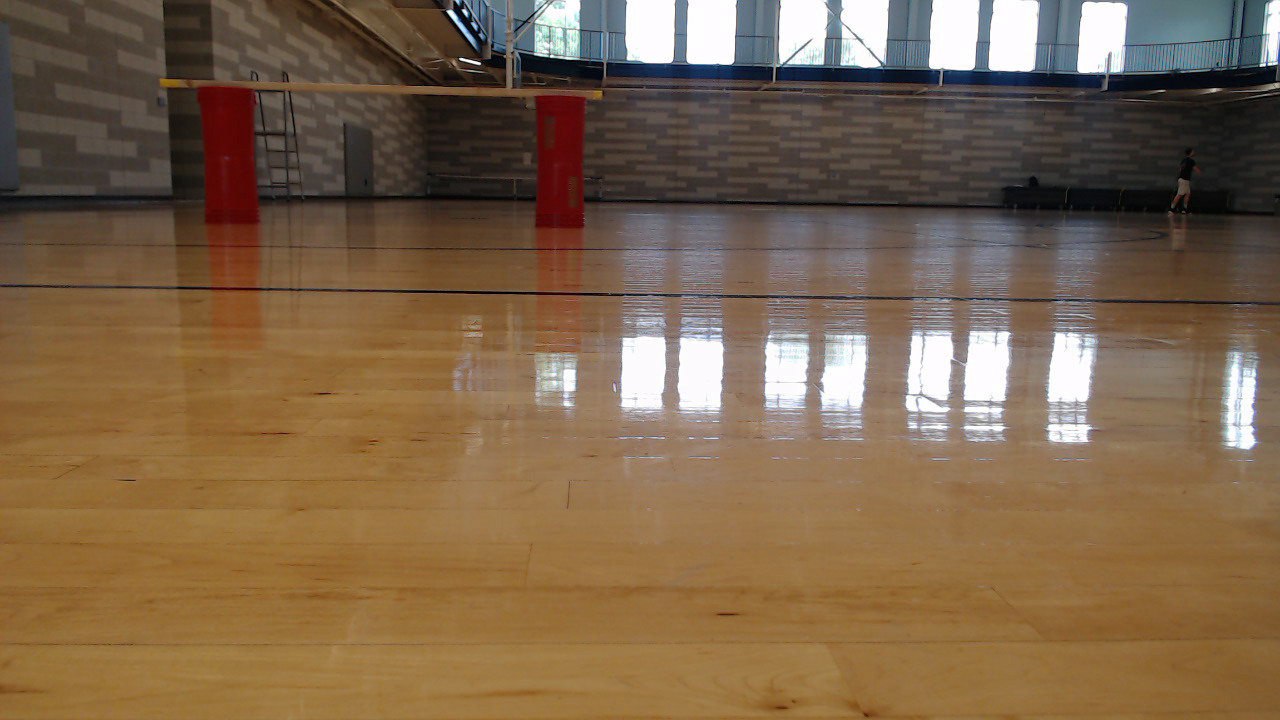red_bucket_arch: (202, 81, 601, 236)
